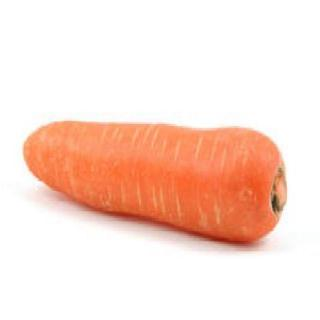carrot: (23, 118, 290, 248)
